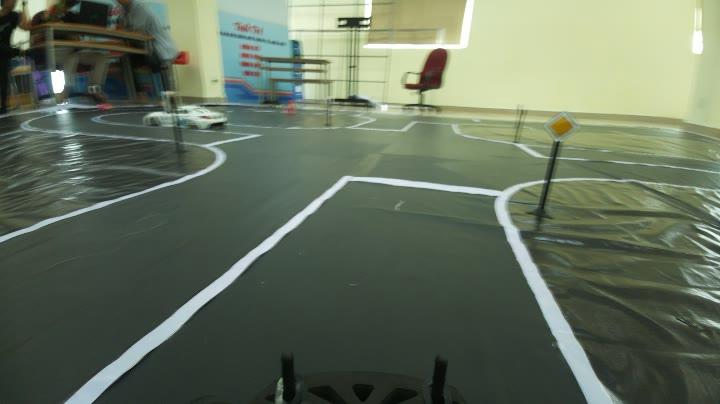priority: (539, 111, 580, 148)
